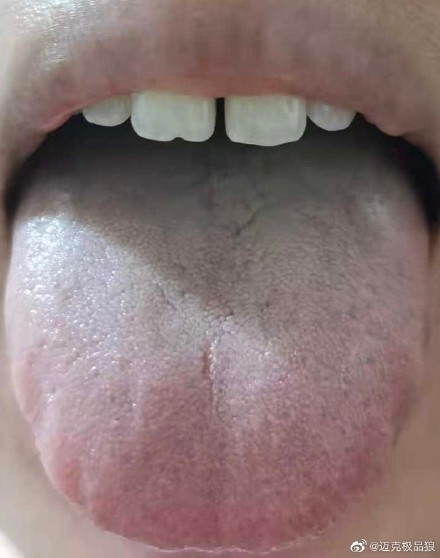baitaishe: (5, 119, 429, 552)
